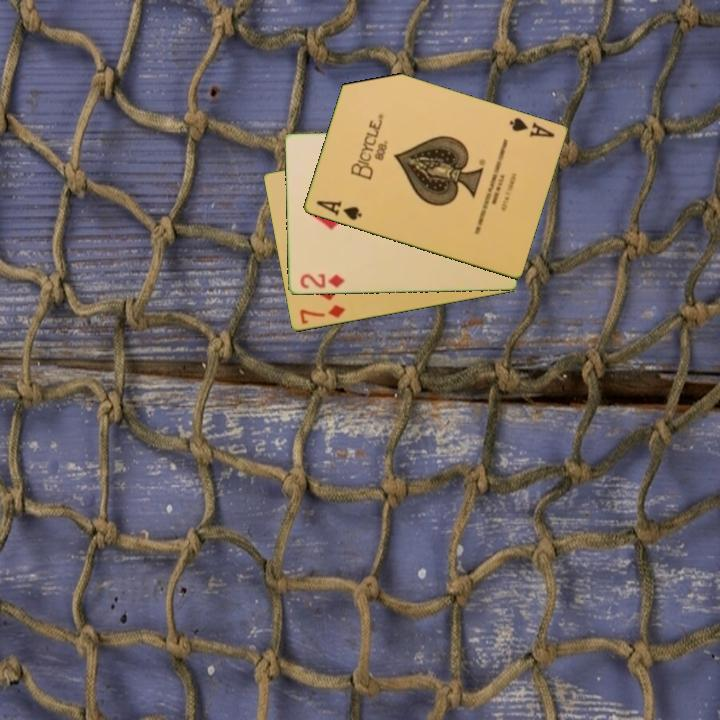2d: (296, 271, 347, 292)
7d: (296, 302, 348, 327)
As: (505, 114, 558, 141), (312, 197, 364, 223)
